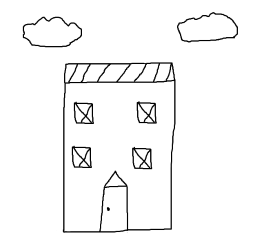closed_window: (73, 101, 95, 124), (132, 146, 153, 170), (137, 101, 158, 124), (72, 146, 92, 168)
clouds: (176, 11, 238, 42), (22, 17, 82, 47)
door: (96, 170, 134, 236)
roof: (60, 55, 178, 88)
wall: (57, 79, 179, 236)
